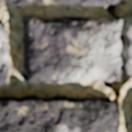brick: (0, 96, 118, 131), (0, 21, 10, 84), (0, 0, 119, 5)
broken_brick: (23, 16, 120, 84), (120, 13, 131, 75)
crack: (102, 2, 131, 129), (25, 74, 61, 83)
